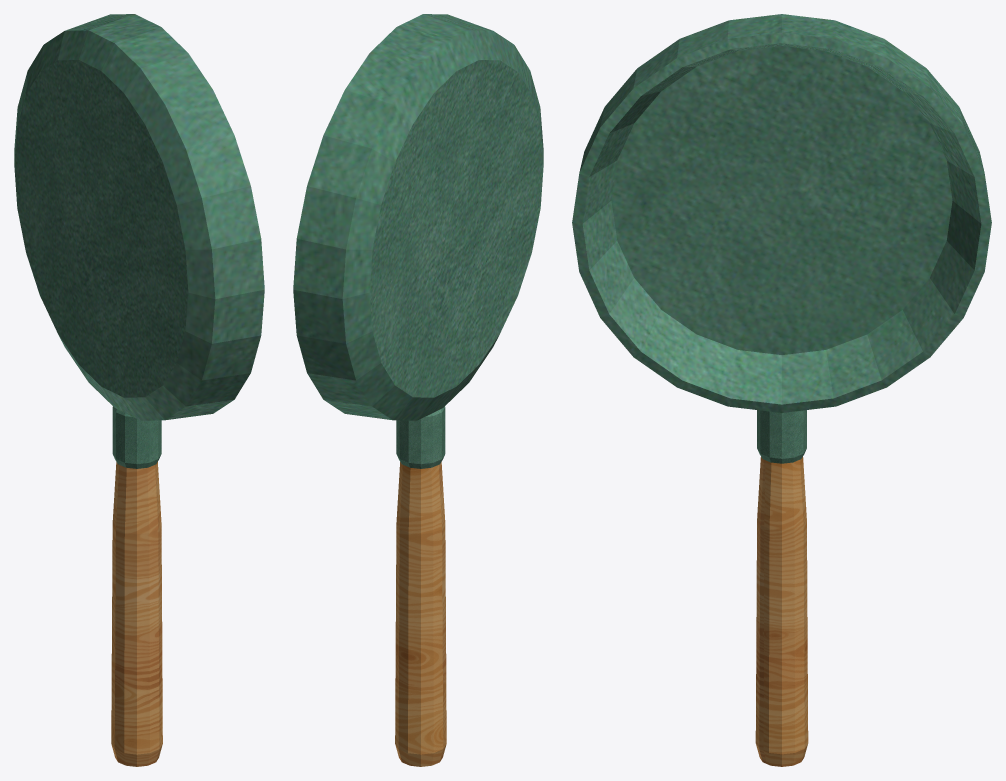
Rendered from Weapon_Frying_Pan_Broken.fbx.
3 renders of one model, left to right at view 1: azimuth 30°, elevation 25°; view 2: azimuth 150°, elevation 25°; view 3: azimuth 270°, elevation 25°, orthographic.
Visible parts, largest first — view 1: Weapon_Frying_Pan_break.001, Weapon_Frying_Pan_break.000; view 2: Weapon_Frying_Pan_break.001, Weapon_Frying_Pan_break.000; view 3: Weapon_Frying_Pan_break.001, Weapon_Frying_Pan_break.000.
Part boxes in pixels (<box>): Weapon_Frying_Pan_break.001: <box>14,14,264,468</box>; Weapon_Frying_Pan_break.000: <box>111,462,162,766</box>; Weapon_Frying_Pan_break.001: <box>293,14,543,468</box>; Weapon_Frying_Pan_break.000: <box>395,462,446,766</box>; Weapon_Frying_Pan_break.001: <box>572,14,991,463</box>; Weapon_Frying_Pan_break.000: <box>755,457,808,766</box>.
Bounding box in the file's own units: 0.056 × 0.62 × 0.32.
